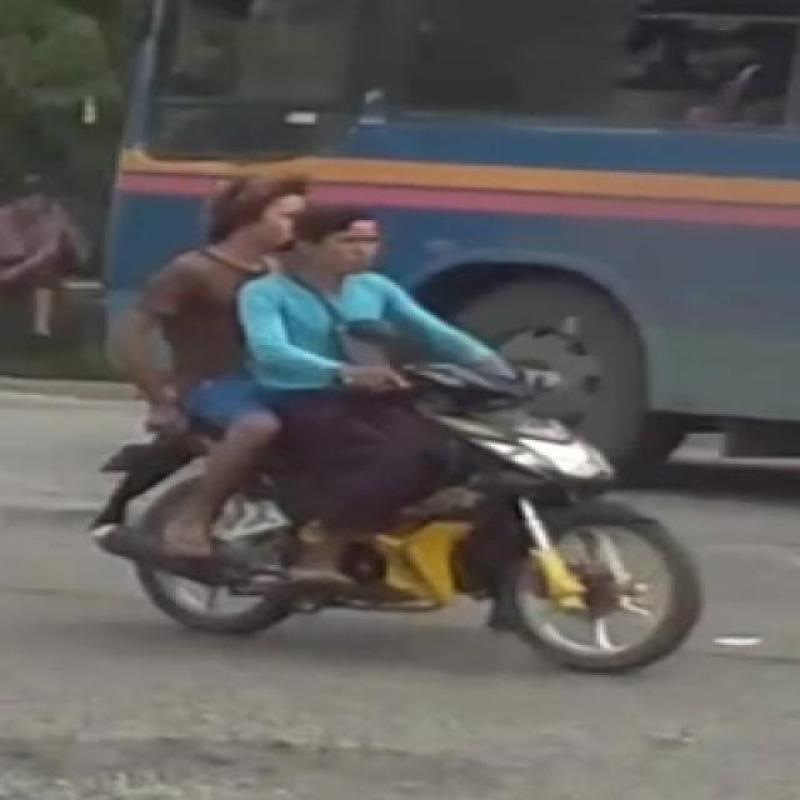nohelmet: (294, 196, 453, 292), (192, 163, 292, 278)
